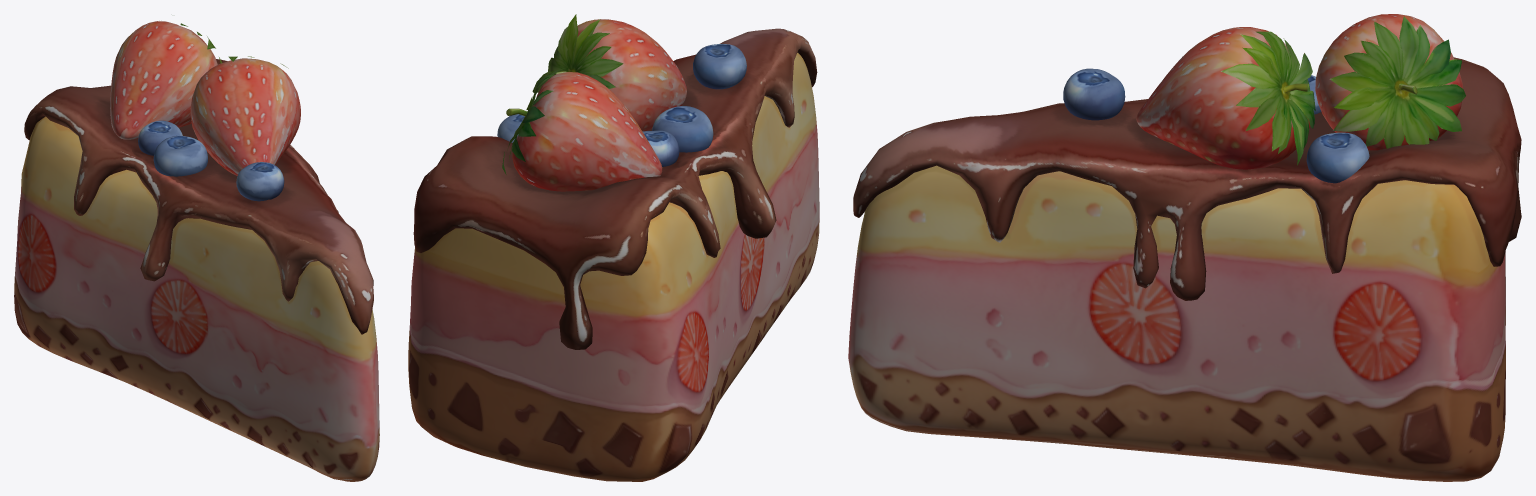
Rendered from slicefruitcake.glb.
3 views of the same model, side by side, from view 1: azimuth 30°, elevation 25°; view 2: azimuth 150°, elevation 25°; view 3: azimuth 270°, elevation 25° (orthographic). The views are drawn at different scales.
Parts seen in each view (by area): view 1: cake001, frosting001, berries001, strawberry001; view 2: cake001, frosting001, berries001, strawberry001, leaves003, leaves004, blueberry001; view 3: cake001, frosting001, strawberry001, leaves004, berries001, leaves003, blueberry001.
Part boxes in pixels (x1,y1,x2,y2): cake001: (14, 116, 379, 481); frosting001: (24, 59, 373, 334); berries001: (110, 21, 284, 201); strawberry001: (190, 58, 300, 175); cake001: (408, 53, 819, 481); frosting001: (413, 28, 817, 349); berries001: (512, 44, 746, 191); strawberry001: (577, 19, 686, 131); leaves003: (532, 14, 623, 92); leaves004: (502, 68, 564, 174); blueberry001: (497, 114, 524, 142); cake001: (848, 165, 1505, 481); frosting001: (853, 57, 1521, 300); strawberry001: (1136, 27, 1310, 169); leaves004: (1329, 16, 1465, 148); berries001: (1063, 14, 1462, 150); leaves003: (1221, 31, 1315, 165); blueberry001: (1306, 132, 1369, 183).
Size of the model in its own units: 2.73 by 3.44 by 5.01.
1 material, 1 textured.
